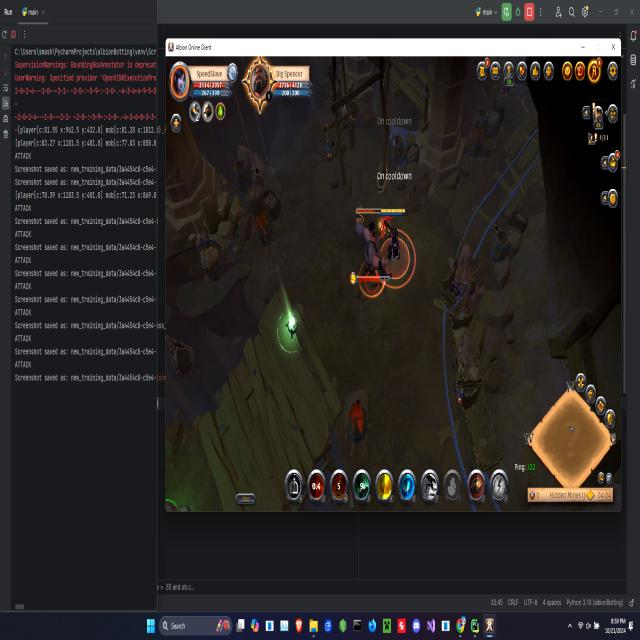ore: (350, 201, 394, 302)
red: (377, 197, 410, 279)
silver: (367, 224, 418, 292)
